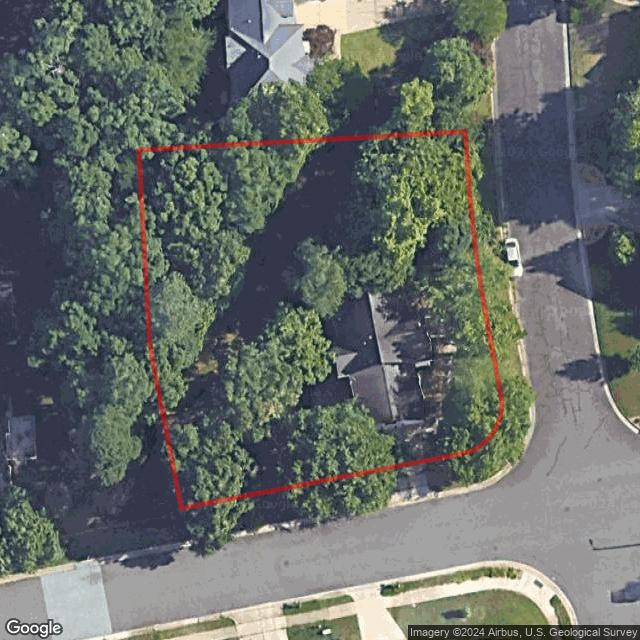Driveway: (383, 425, 424, 468)
Extra-Driveway: (387, 464, 432, 501)
Extra-Lawn: (424, 129, 533, 489), (183, 469, 391, 540)
House: (324, 280, 444, 434)
Lawn: (140, 132, 502, 507)
